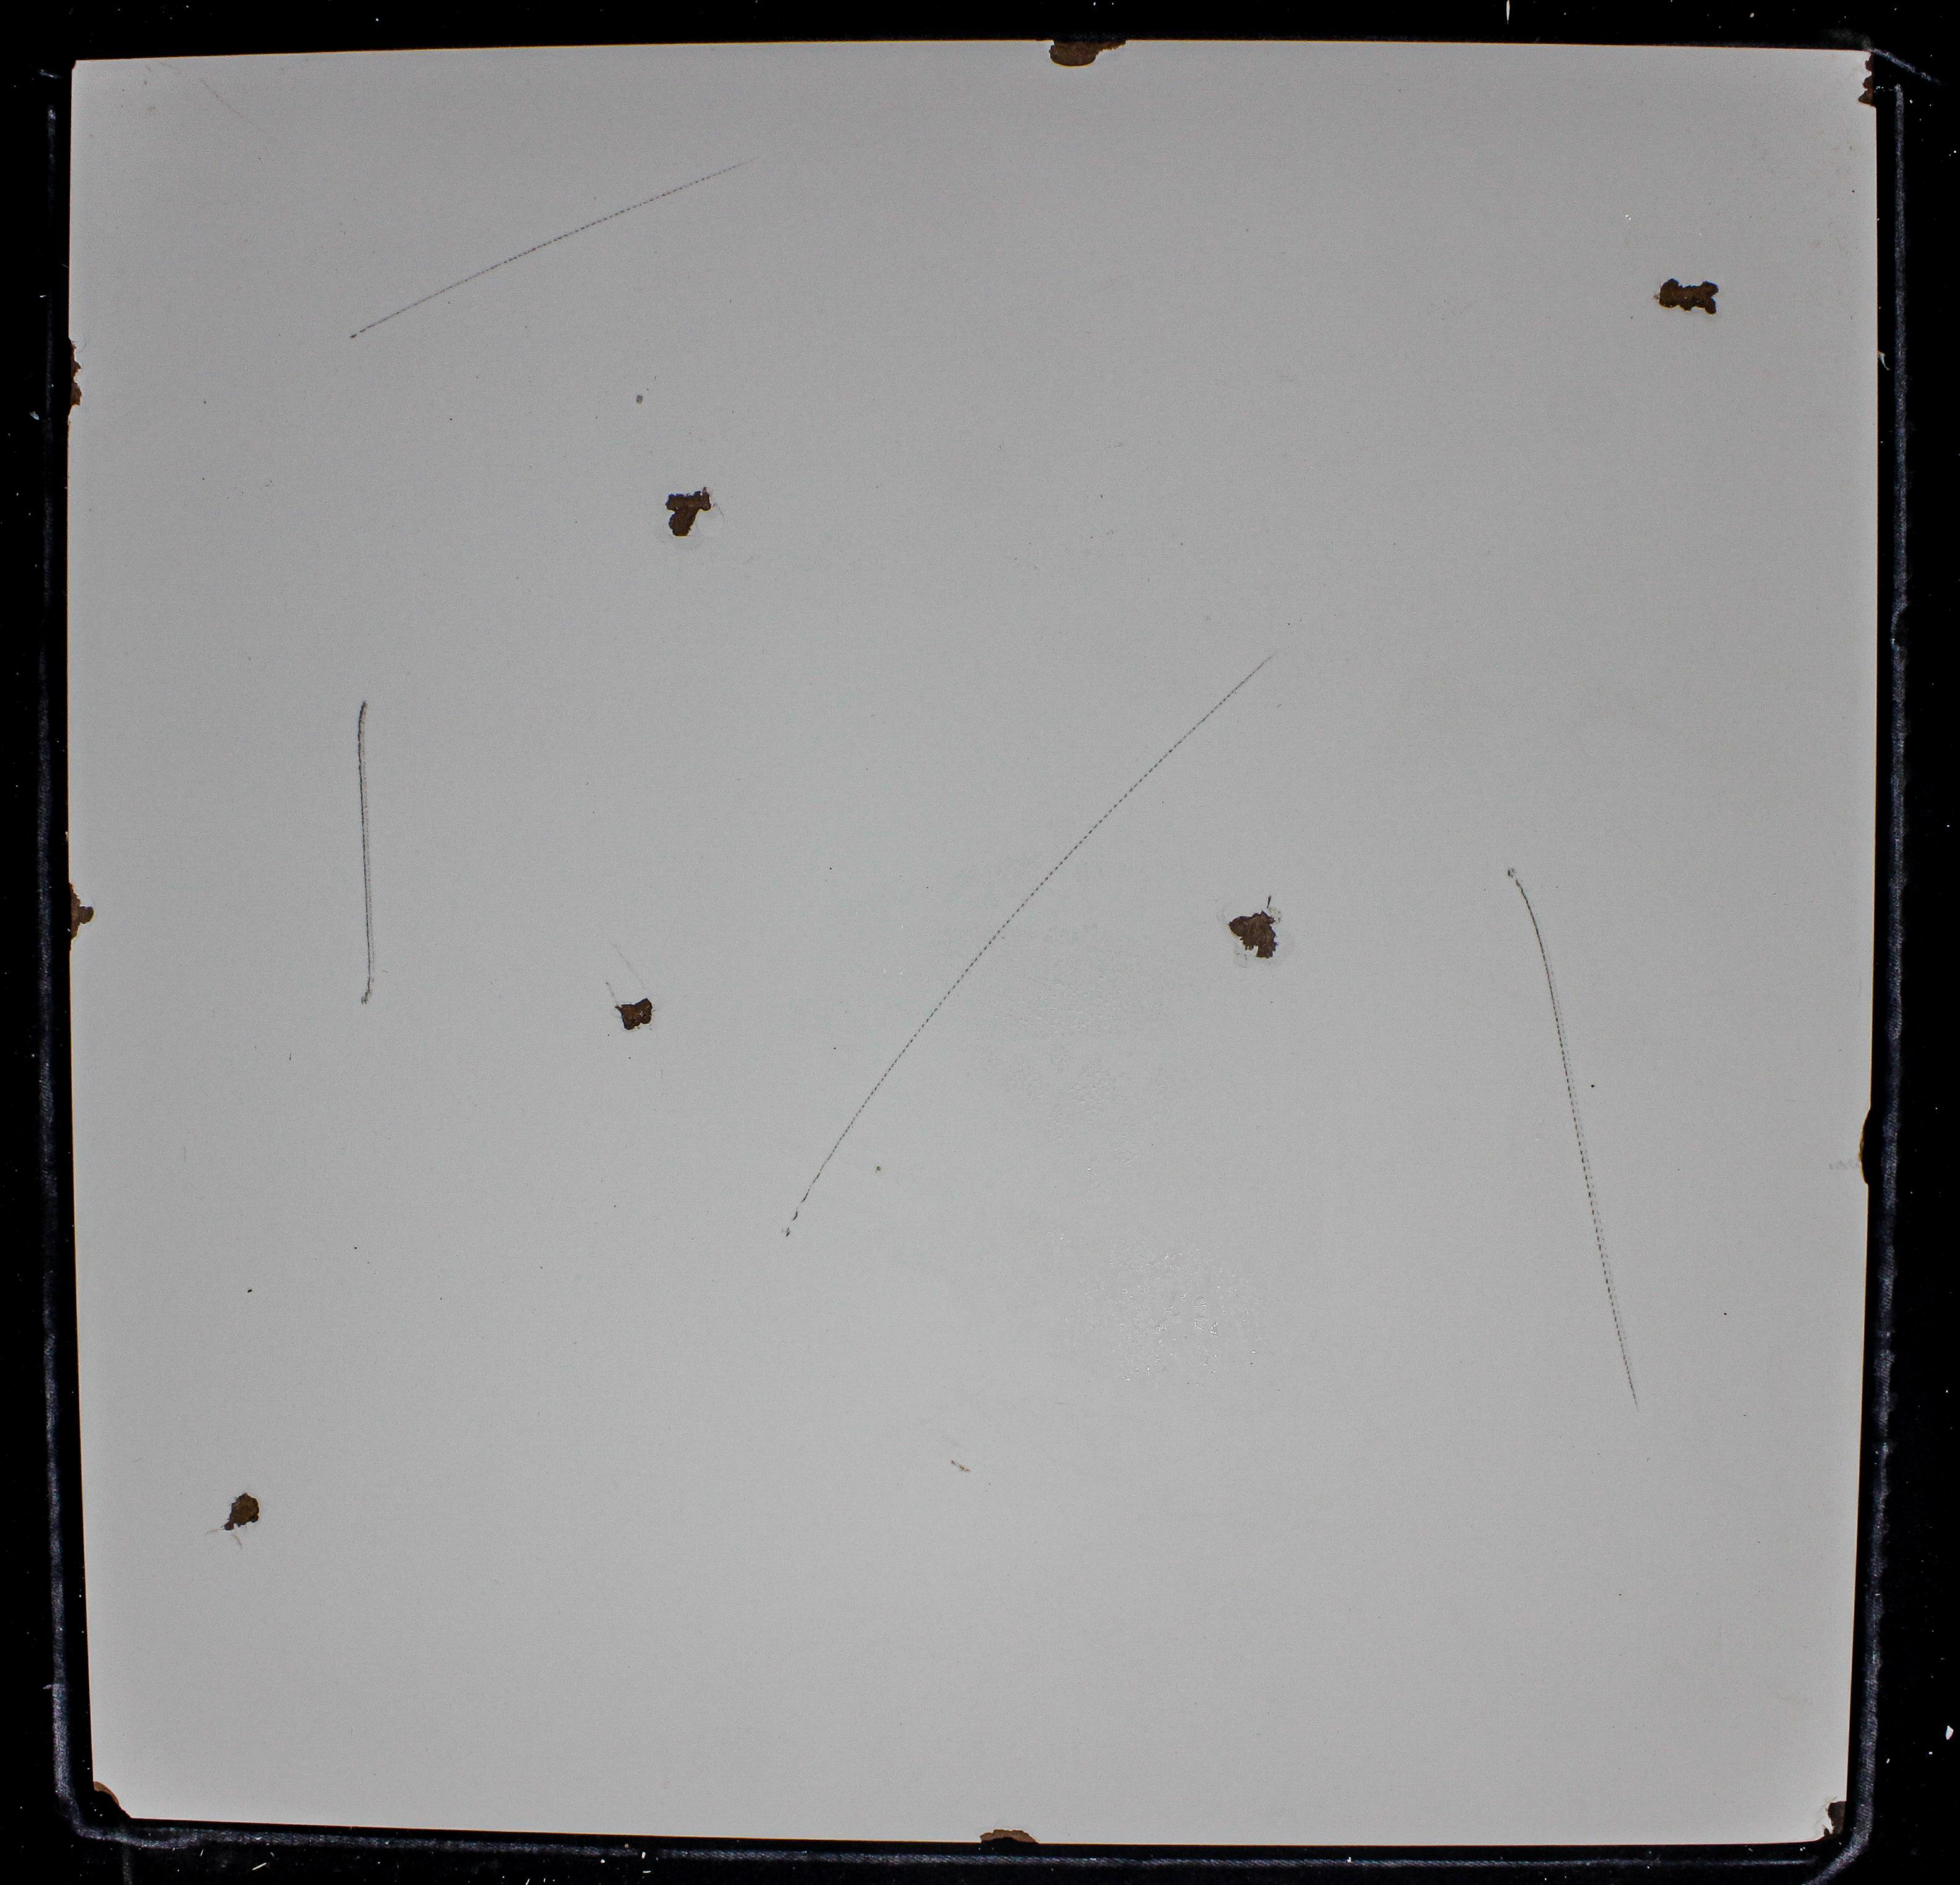edge-chipping: (1046, 33, 1129, 70), (68, 882, 94, 940), (1857, 1108, 1874, 1187), (1820, 1799, 1848, 1845), (1857, 51, 1878, 110), (978, 1827, 1041, 1846), (65, 380, 84, 418), (66, 336, 82, 380)
hole: (1225, 905, 1281, 961), (663, 485, 716, 539), (1657, 278, 1720, 317), (222, 1491, 261, 1533), (618, 992, 658, 1029)
line: (782, 891, 1036, 1232), (1503, 858, 1645, 1397), (346, 161, 746, 341), (1043, 648, 1272, 884), (354, 693, 380, 1015)
